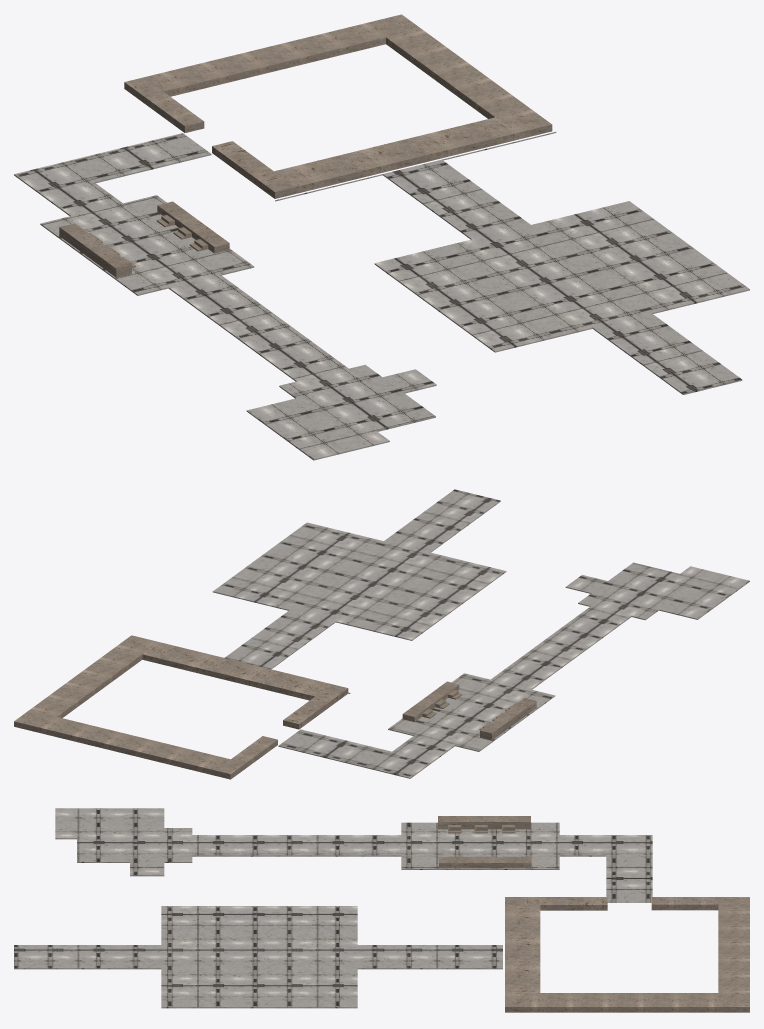
The model's file is banqueta.obj.
3 views of the same model, one above another, from view 1: azimuth 30°, elevation 25°; view 2: azimuth 150°, elevation 25°; view 3: azimuth 270°, elevation 25° (orthographic). The views are drawn at different scales.
Parts seen in each view (by area): view 1: Cube.007, Cube.076, Cube.077, Cube.078, Cube.052, Cube.080, Cube.079, Cube.061; view 2: Cube.007, Cube.077, Cube.076, Cube.078, Cube.079, Cube.052, Cube.080, Cube.061; view 3: Cube.007, Cube.078, Cube.076, Cube.077, Cube.061, Cube.052, Cube.079, Cube.080.
Part boxes in pixels (<box>): Cube.007: <box>14,132,749,460</box>; Cube.076: <box>263,116,552,198</box>; Cube.077: <box>124,14,413,97</box>; Cube.078: <box>386,23,539,124</box>; Cube.052: <box>59,223,131,277</box>; Cube.080: <box>136,86,204,132</box>; Cube.079: <box>212,141,282,189</box>; Cube.061: <box>157,201,229,253</box>; Cube.007: <box>212,489,749,778</box>; Cube.077: <box>14,714,239,779</box>; Cube.076: <box>122,635,348,700</box>; Cube.078: <box>23,642,149,718</box>; Cube.079: <box>283,691,338,729</box>; Cube.052: <box>480,698,536,740</box>; Cube.080: <box>225,736,277,772</box>; Cube.061: <box>402,681,459,721</box>; Cube.007: <box>14,808,652,1008</box>; Cube.078: <box>524,993,730,1012</box>; Cube.076: <box>505,897,540,1012</box>; Cube.077: <box>718,897,749,1012</box>; Cube.061: <box>439,857,531,868</box>; Cube.052: <box>438,816,530,829</box>; Cube.079: <box>524,897,607,910</box>; Cube.080: <box>651,897,730,910</box>.
Bounding box in the file's own units: 156 × 2.99 × 237.
